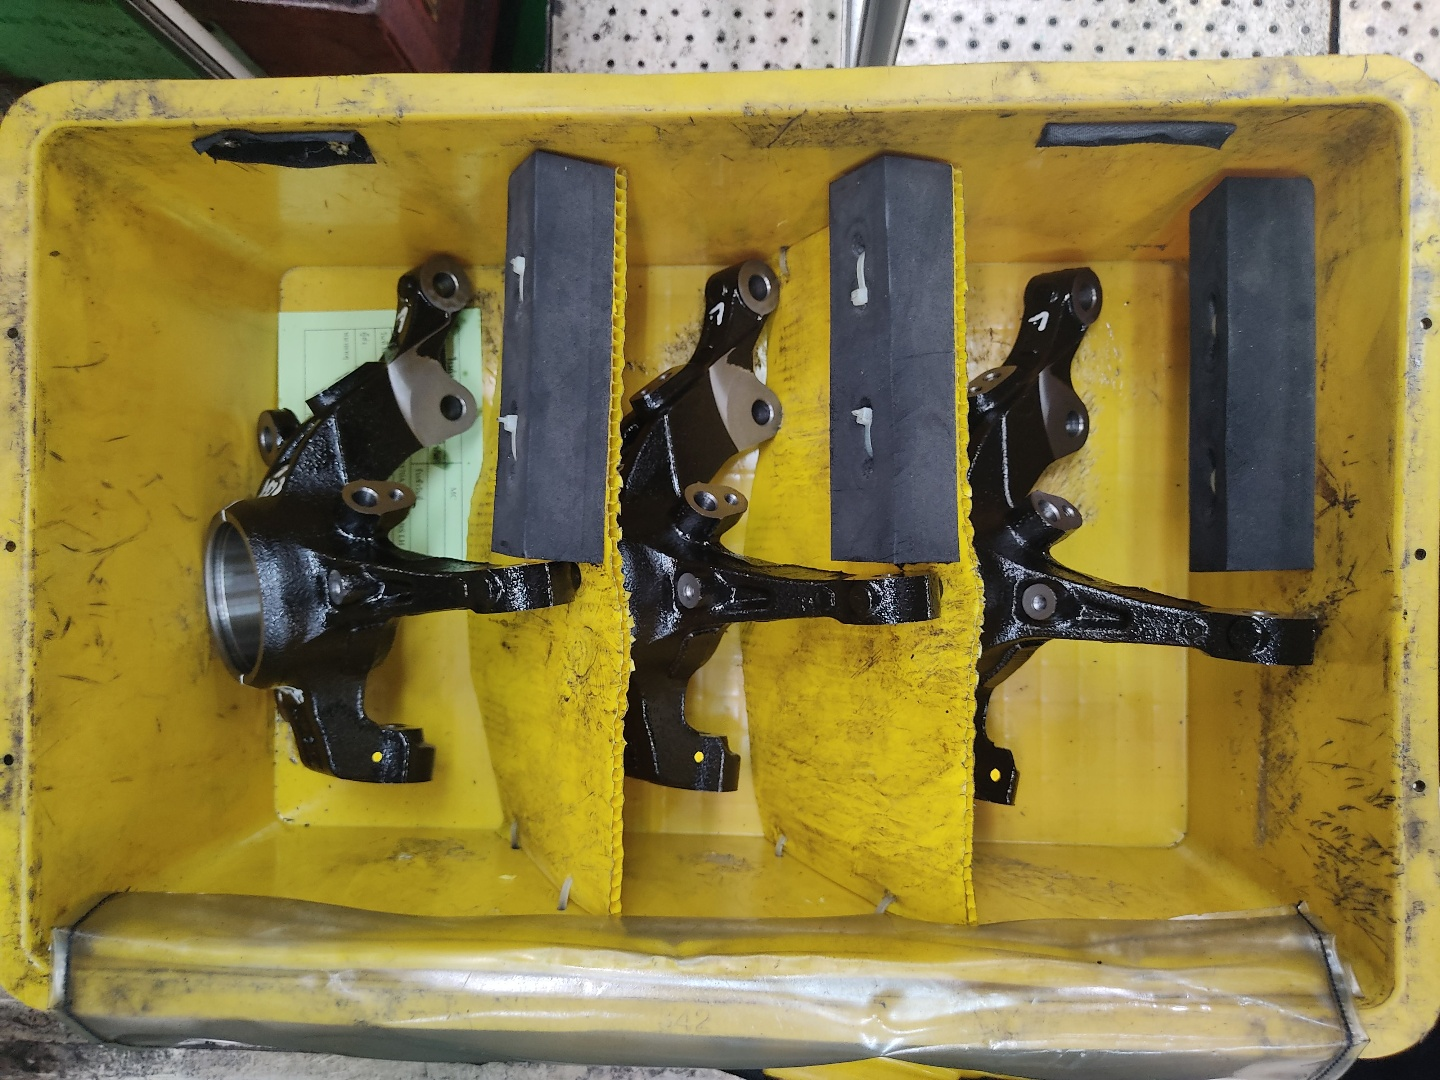abs-lh: (192, 248, 592, 791), (956, 258, 1336, 817), (610, 248, 947, 803)
